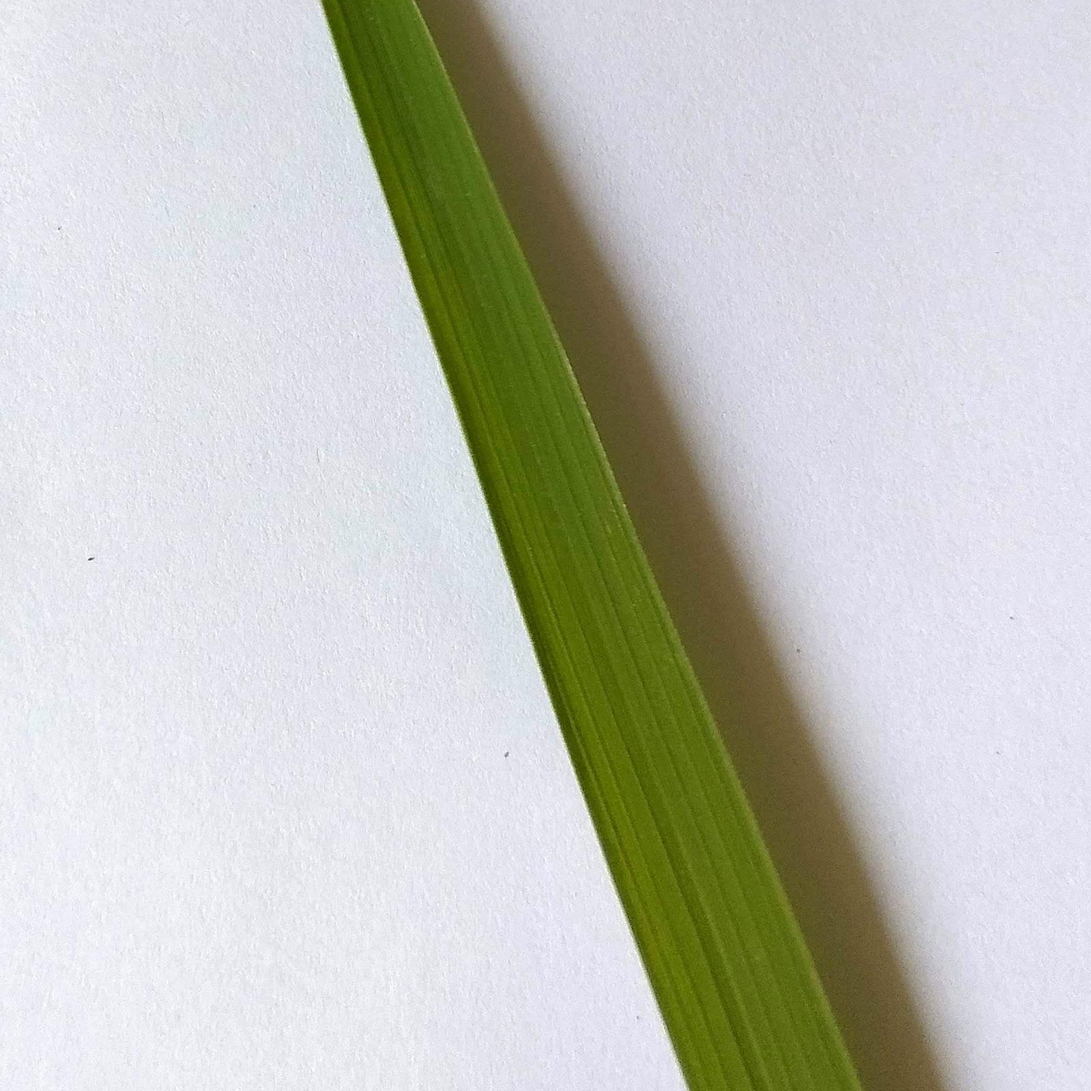Healthy: (323, 0, 861, 1090)
